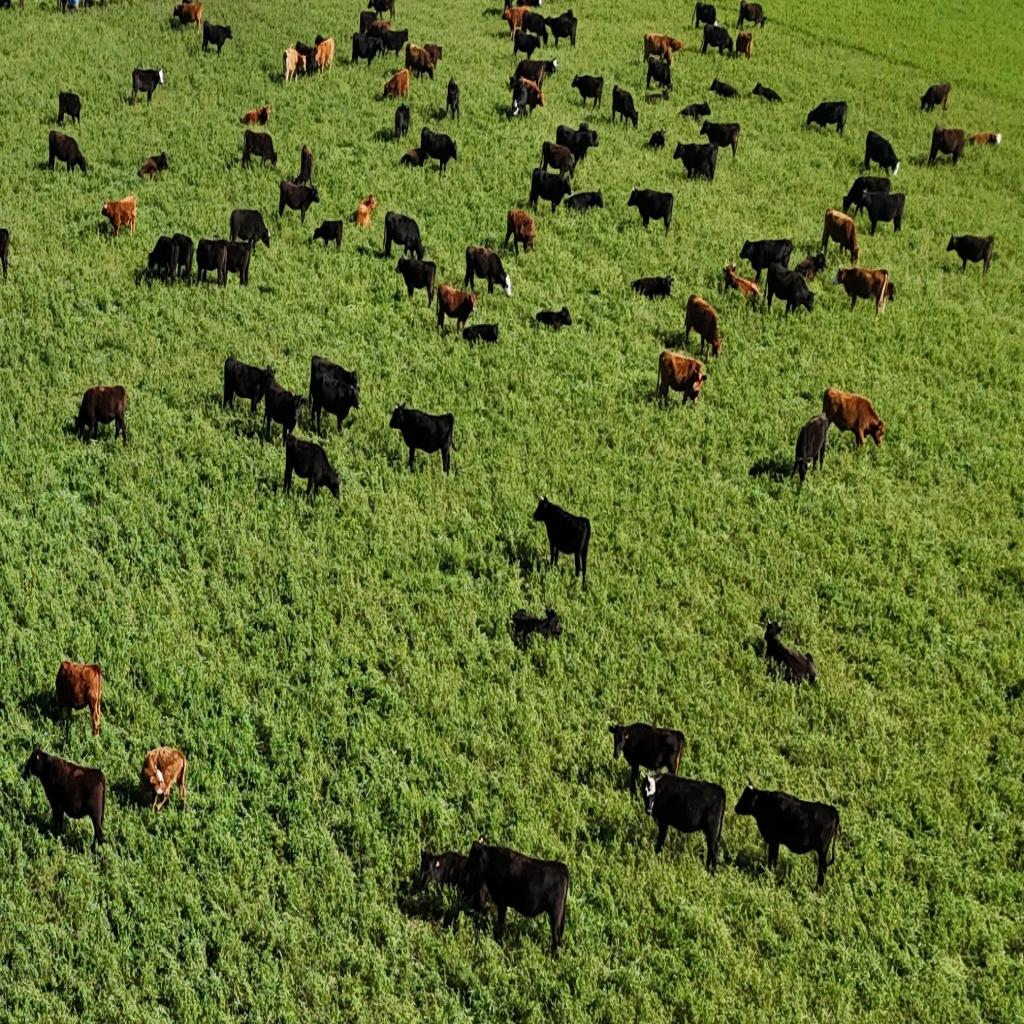cow: (736, 768, 851, 908), (463, 838, 569, 960), (785, 386, 889, 492), (642, 770, 727, 874), (23, 745, 107, 850), (416, 846, 498, 930), (388, 402, 458, 478), (533, 495, 591, 586), (612, 722, 684, 794), (308, 354, 360, 436), (283, 432, 339, 502), (55, 658, 103, 738), (764, 619, 818, 689), (171, 1, 236, 58), (72, 384, 128, 446), (262, 368, 308, 442), (140, 745, 189, 814), (834, 266, 892, 320), (790, 411, 830, 486), (766, 262, 817, 320), (657, 350, 706, 409), (222, 355, 268, 415), (683, 294, 722, 361), (464, 244, 510, 298), (512, 606, 563, 650), (822, 208, 860, 266), (946, 234, 996, 278), (740, 238, 794, 278), (628, 187, 672, 235), (396, 257, 438, 307), (437, 284, 477, 336), (861, 191, 906, 237), (385, 211, 425, 262), (529, 168, 573, 214), (843, 175, 889, 219), (278, 180, 320, 228), (672, 140, 717, 184), (555, 122, 599, 166), (419, 127, 458, 176), (48, 132, 88, 178), (146, 235, 182, 286), (9, 0, 107, 18), (229, 208, 271, 249), (196, 238, 229, 290), (865, 129, 900, 177), (221, 238, 255, 286), (928, 126, 966, 168), (723, 263, 759, 307), (700, 120, 740, 159), (102, 195, 136, 240), (806, 99, 848, 135), (512, 58, 554, 93), (242, 130, 278, 170), (506, 208, 536, 255), (643, 31, 684, 65), (512, 76, 546, 116), (405, 43, 441, 80), (132, 66, 165, 106), (544, 10, 577, 50), (502, 4, 535, 44), (542, 140, 576, 178), (572, 74, 604, 112), (631, 274, 672, 303), (312, 218, 344, 254), (794, 250, 826, 286), (700, 22, 732, 56), (374, 25, 408, 57), (352, 31, 382, 67), (521, 10, 550, 47), (919, 82, 951, 114), (173, 1, 203, 35), (352, 193, 378, 232), (646, 55, 672, 93), (382, 67, 409, 102), (138, 152, 169, 182), (58, 91, 82, 129), (564, 190, 602, 214), (294, 40, 318, 78), (738, 0, 768, 30), (294, 143, 314, 187), (312, 36, 334, 76), (462, 323, 500, 346), (535, 306, 571, 330), (283, 46, 305, 84), (615, 95, 639, 129), (514, 32, 542, 61), (240, 103, 270, 127), (0, 228, 12, 285), (679, 100, 711, 121), (752, 82, 782, 104), (446, 76, 460, 122), (694, 1, 716, 29), (398, 146, 426, 168), (368, 0, 396, 22), (394, 103, 410, 141), (710, 80, 740, 100), (734, 31, 754, 60), (134, 264, 158, 288), (359, 9, 381, 35), (643, 129, 666, 151), (970, 132, 1001, 146), (404, 42, 418, 72), (501, 1, 517, 25), (1, 0, 24, 15), (169, 12, 184, 30)
